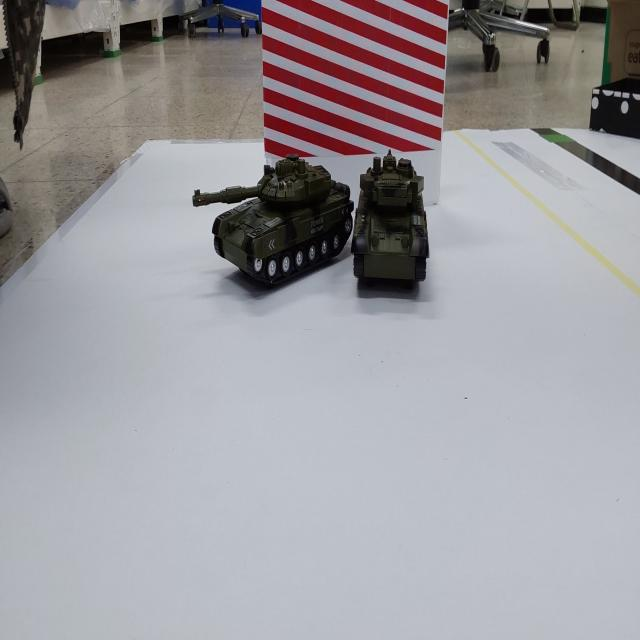enem_tank: (193, 154, 354, 285), (351, 150, 429, 281)
